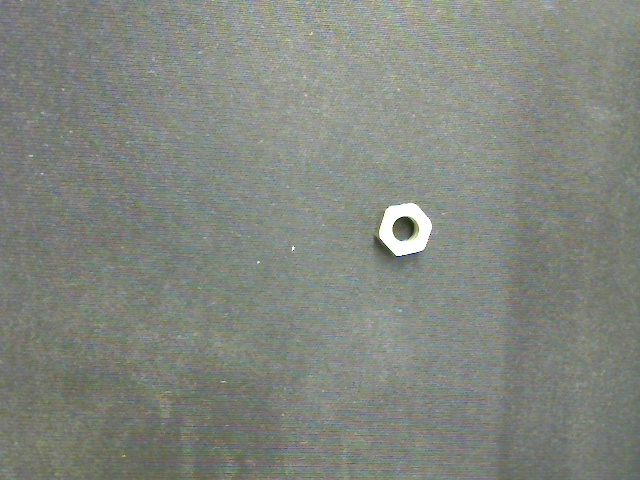Nut: (376, 202, 432, 257)
